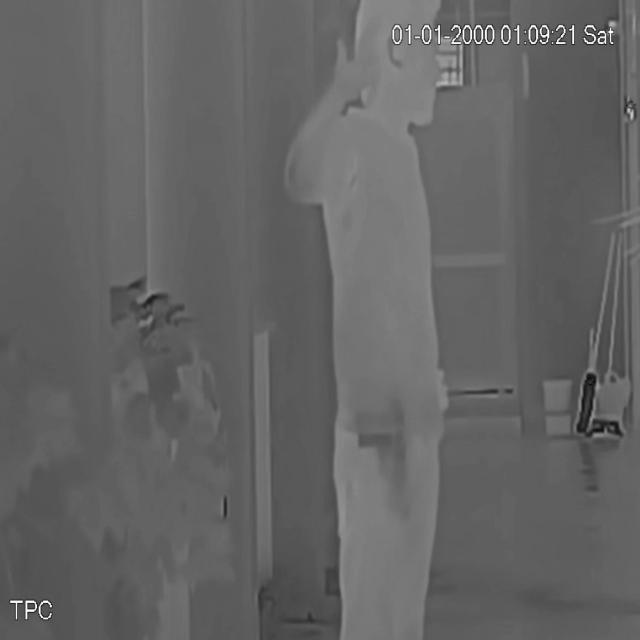Weapon: (344, 384, 428, 530)
